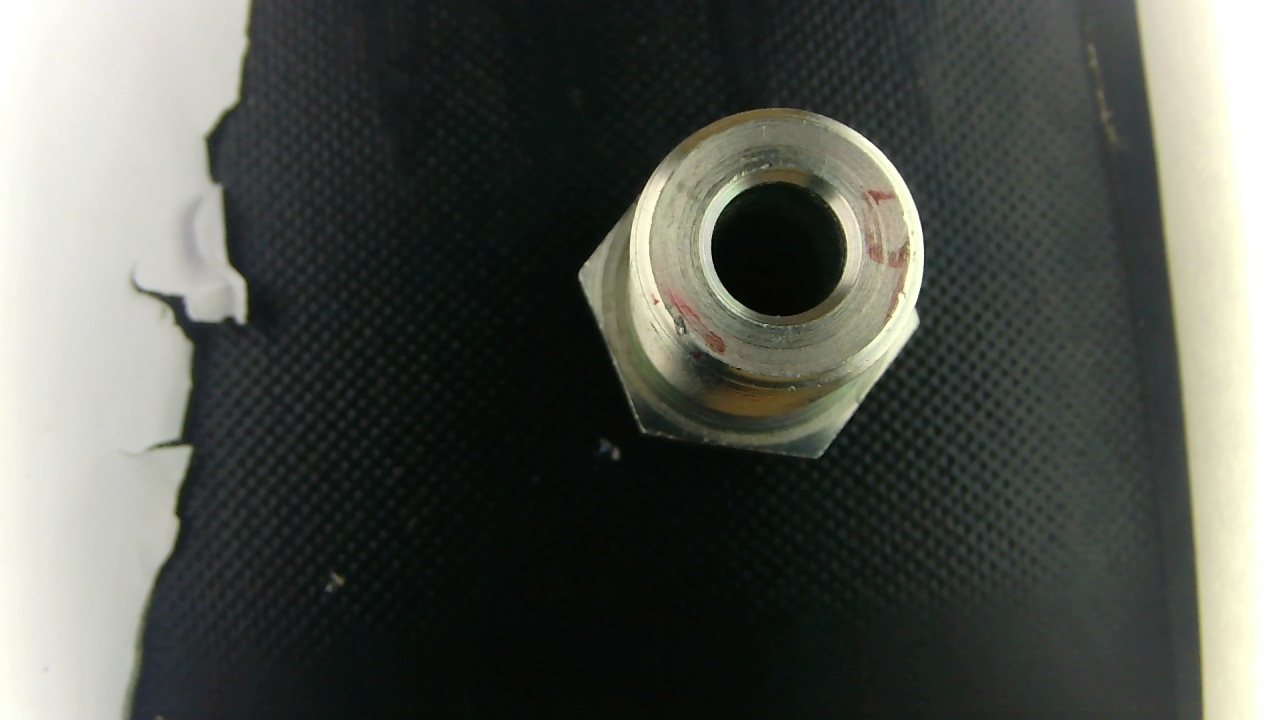SurfaceDent_Adaptor: (711, 159, 780, 198)
